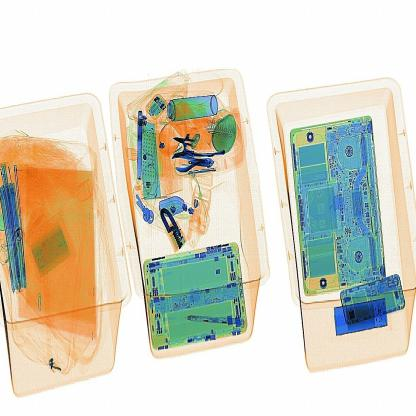gun: (165, 123, 198, 154)
